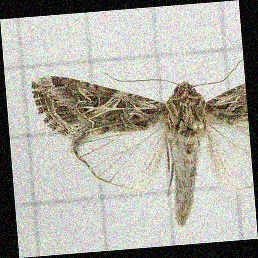Spodoptera litura: (36, 67, 250, 231)
